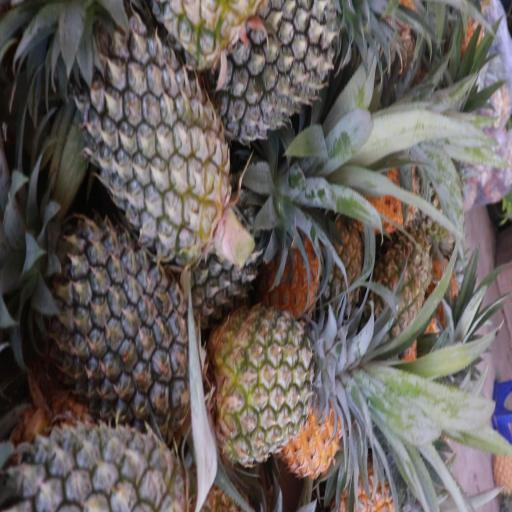------------------------------: (204, 306, 334, 466)
